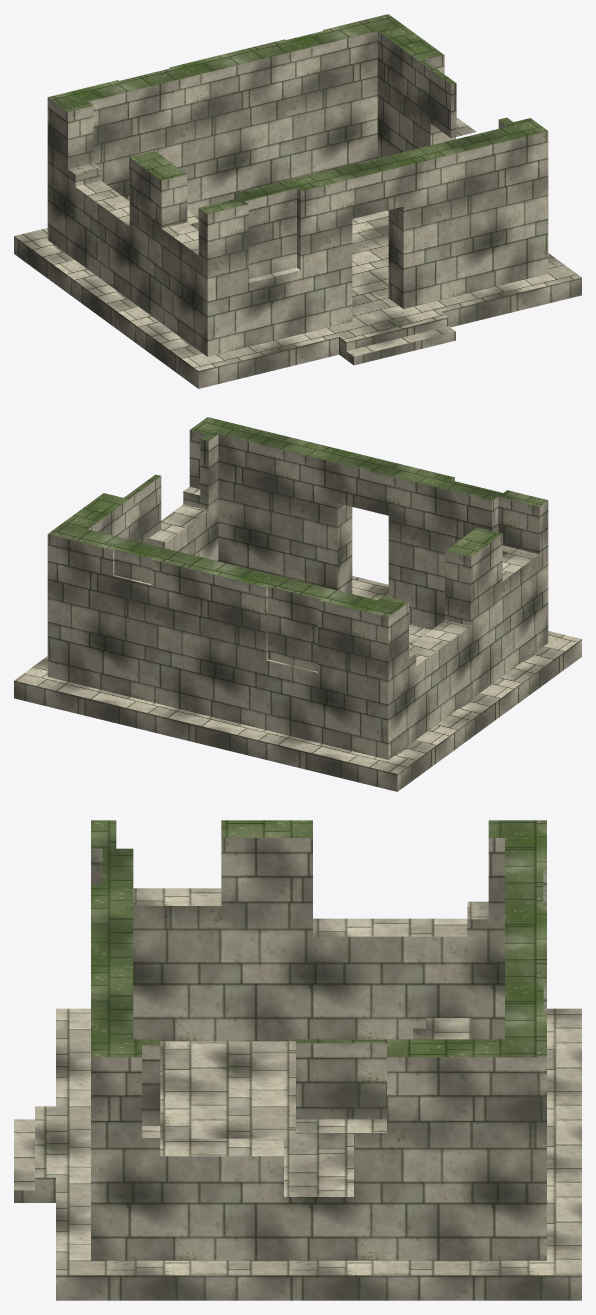
The model's file is ruin-house-a.zfix-v14.lod1.glb.
3 views of the same model, one above another, from view 1: azimuth 30°, elevation 25°; view 2: azimuth 150°, elevation 25°; view 3: azimuth 270°, elevation 25° (orthographic). The views are drawn at different scales.
Parts seen in each view (by area): view 1: ruin-house-a; view 2: ruin-house-a; view 3: ruin-house-a.
Boxes of the visible parts, x1,y1,x2,y2 form: ruin-house-a: (14,14,581,388); ruin-house-a: (14,417,581,791); ruin-house-a: (14,820,581,1300).
Bounding box in the file's own units: 9 × 3.6 × 8.1.
2 materials, 2 textured.
